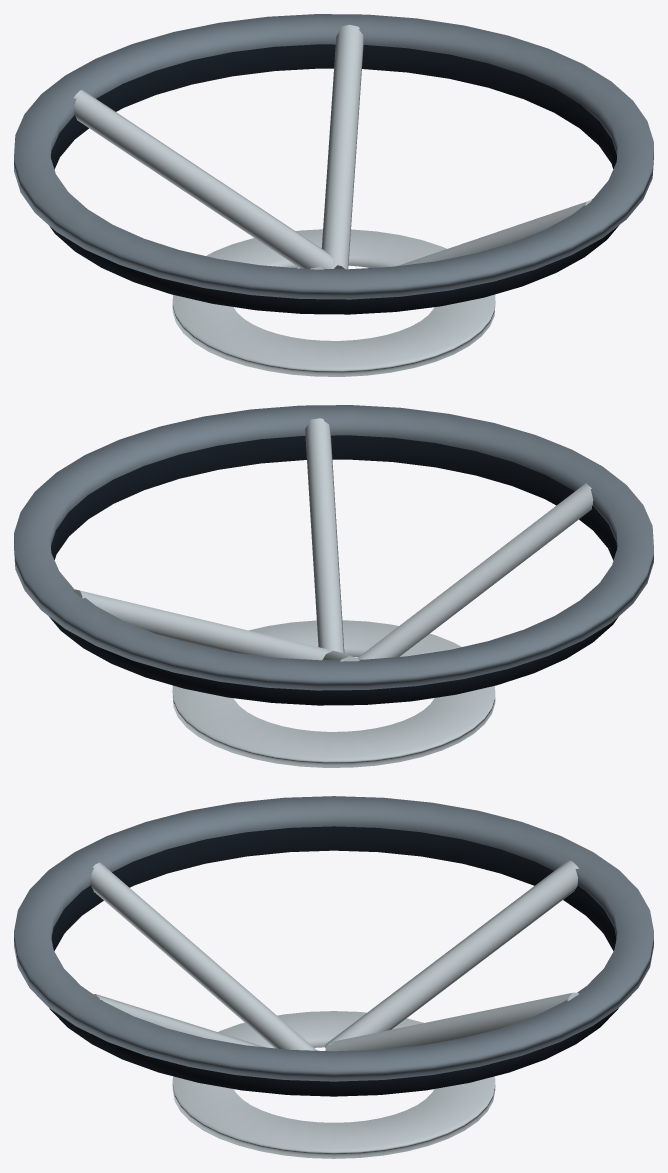
The model's file is s_ivb_engine_frame.glb.
The picture shows the model from 3 angles, top to bottom: view 1: azimuth 30°, elevation 25°; view 2: azimuth 150°, elevation 25°; view 3: azimuth 270°, elevation 25°; orthographic projection.
Visible parts, largest first — view 1: s_ivb_engine_frame.mesh_Machined_steel, s_ivb_engine_frame.mesh_Satin_aluminum, s_ivb_engine_frame.mesh_Shadowed_interior; view 2: s_ivb_engine_frame.mesh_Machined_steel, s_ivb_engine_frame.mesh_Satin_aluminum, s_ivb_engine_frame.mesh_Shadowed_interior; view 3: s_ivb_engine_frame.mesh_Machined_steel, s_ivb_engine_frame.mesh_Satin_aluminum, s_ivb_engine_frame.mesh_Shadowed_interior.
Boxes of the visible parts, left/top/right/bottom form: s_ivb_engine_frame.mesh_Machined_steel: left=14, top=14, right=653, bottom=299; s_ivb_engine_frame.mesh_Satin_aluminum: left=73, top=24, right=591, bottom=376; s_ivb_engine_frame.mesh_Shadowed_interior: left=49, top=44, right=618, bottom=314; s_ivb_engine_frame.mesh_Machined_steel: left=14, top=405, right=653, bottom=690; s_ivb_engine_frame.mesh_Satin_aluminum: left=73, top=418, right=593, bottom=767; s_ivb_engine_frame.mesh_Shadowed_interior: left=49, top=435, right=618, bottom=705; s_ivb_engine_frame.mesh_Machined_steel: left=14, top=796, right=653, bottom=1081; s_ivb_engine_frame.mesh_Satin_aluminum: left=90, top=860, right=578, bottom=1158; s_ivb_engine_frame.mesh_Shadowed_interior: left=49, top=826, right=618, bottom=1096.
Size of the model in its own units: 6.55 by 1.87 by 6.55.
